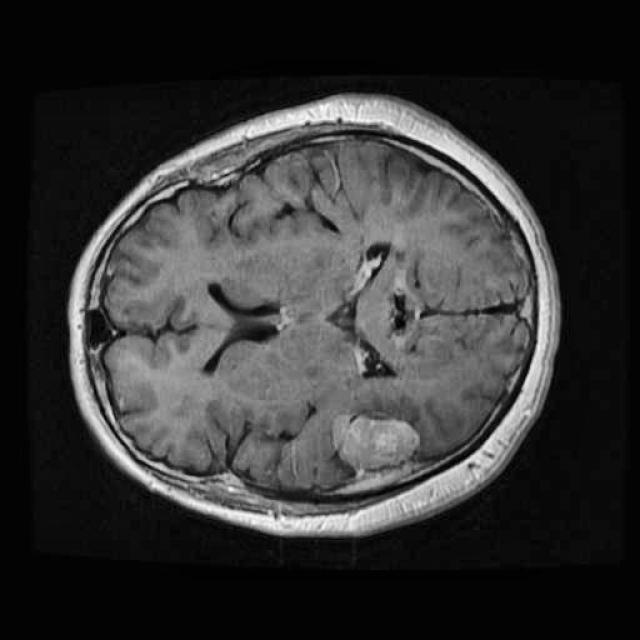Tumor: (324, 400, 429, 479)
